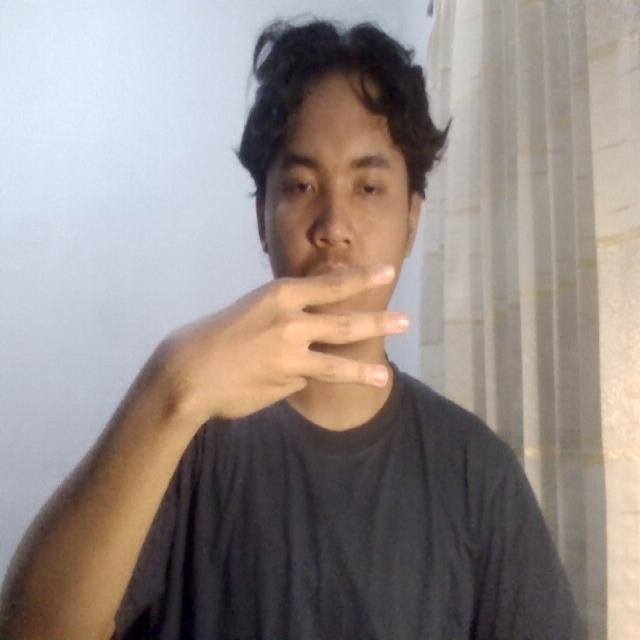E: (202, 251, 429, 438)
